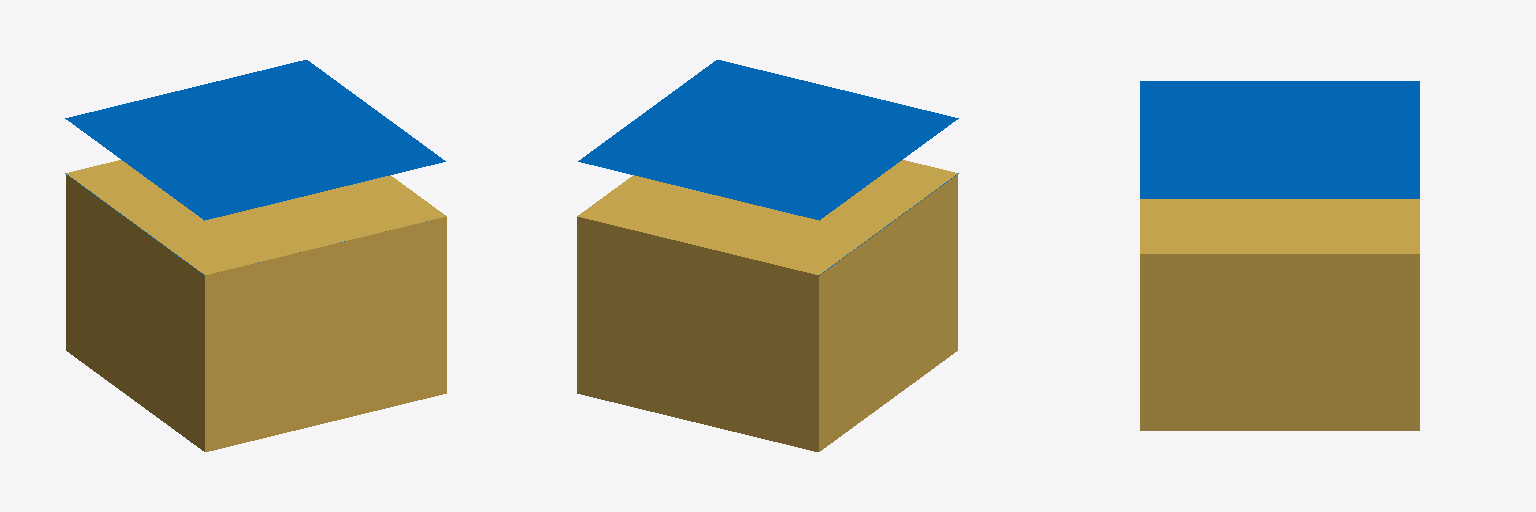
File: water_none.dc261ddc.obj
3 renders of one model, left to right at view 1: azimuth 30°, elevation 25°; view 2: azimuth 150°, elevation 25°; view 3: azimuth 270°, elevation 25°, orthographic.
Visible parts, largest first — view 1: Water_none_Cube.007; view 2: Water_none_Cube.007; view 3: Water_none_Cube.007.
Boxes of the visible parts, x1=… form: Water_none_Cube.007: x1=65, y1=60, x2=446, y2=451; Water_none_Cube.007: x1=577, y1=60, x2=958, y2=451; Water_none_Cube.007: x1=1140, y1=81, x2=1419, y2=430.
Size of the model in its own units: 0.5012 by 0.4586 by 0.5001.